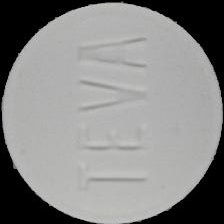49999-057: (0, 0, 224, 224)
